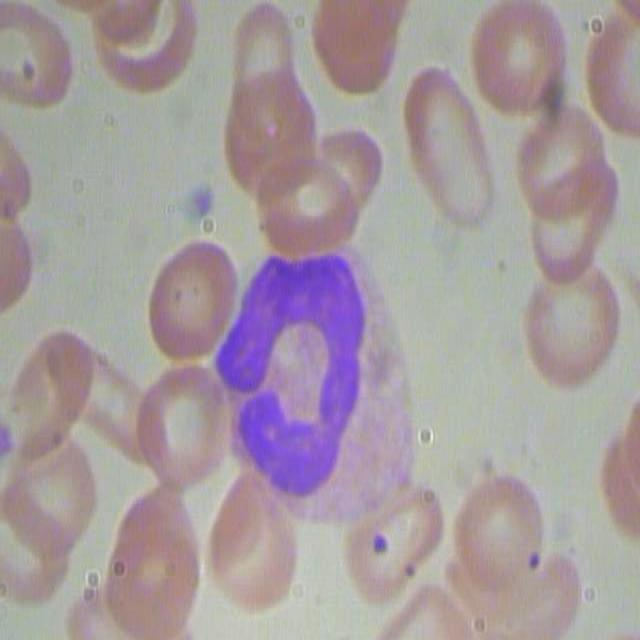RBC: (6, 344, 129, 592), (514, 99, 619, 283), (95, 485, 200, 640), (247, 137, 376, 256), (402, 70, 493, 234), (346, 468, 446, 608), (519, 259, 623, 389), (204, 472, 298, 613), (447, 467, 543, 604), (133, 361, 235, 485), (218, 71, 320, 195), (467, 0, 573, 116), (144, 234, 239, 360), (84, 1, 199, 98), (2, 150, 60, 333), (311, 0, 406, 90), (0, 2, 76, 114), (587, 0, 640, 141), (226, 3, 298, 105), (601, 388, 640, 543)
WBC: (219, 238, 372, 534)
platelets: (184, 181, 218, 221)
